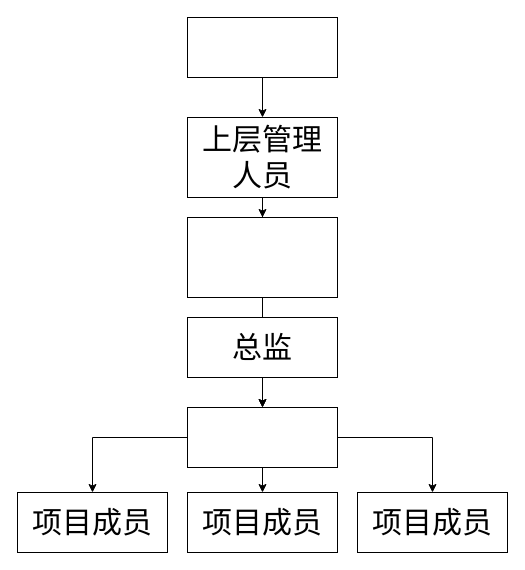
Some shapes in this 525 by 570 pixel diagram are drawn without their labels. The shapes that lost their labels are listed below. From the top down, each one's centre as x and y in pixels, then its label:
At pixel 262 47: "董事会".
At pixel 262 257: "中层管理人员".
At pixel 262 437: "项目经理".
